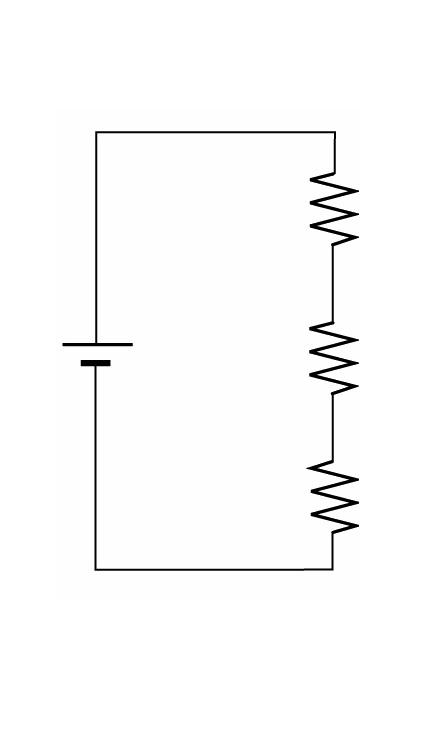resistor: (292, 432, 381, 568), (304, 293, 371, 430), (296, 144, 367, 243)
